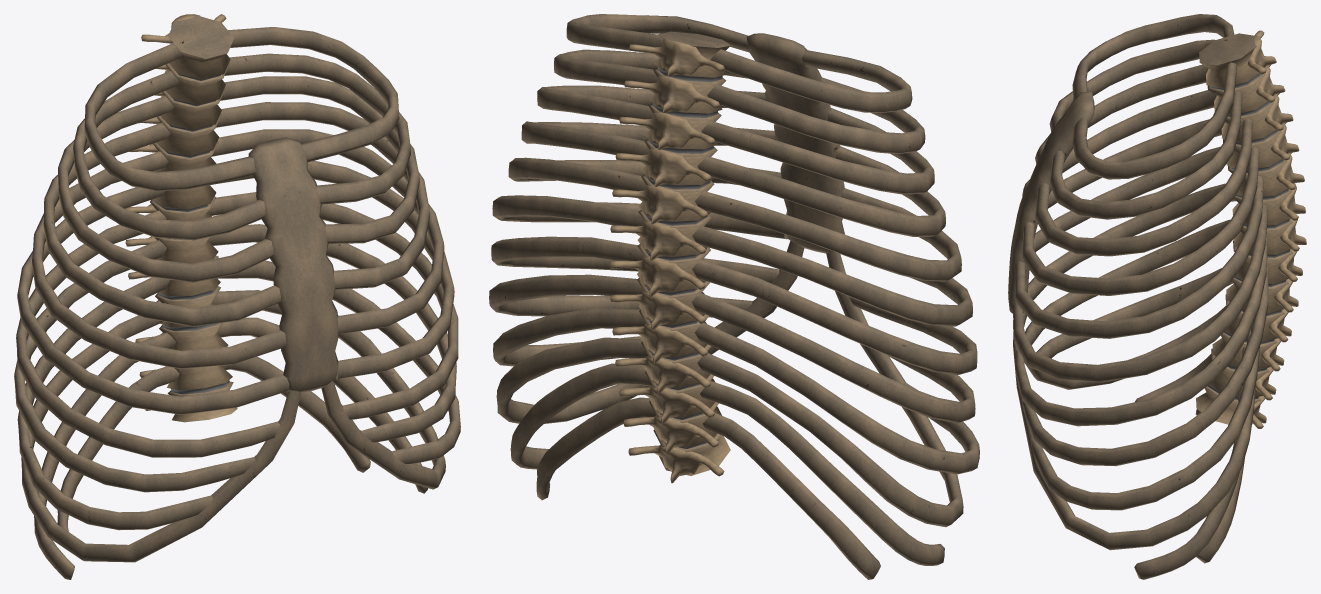
The model's file is low_poly_skeleton_ribs.glb.
3 views of the same model, side by side, from view 1: azimuth 30°, elevation 25°; view 2: azimuth 150°, elevation 25°; view 3: azimuth 270°, elevation 25° (orthographic). The views are drawn at different scales.
Visible parts, largest first — view 1: ribs; view 2: ribs; view 3: ribs.
Boxes of the visible parts, x1,y1,x2,y2 form: ribs: (14,14,460,579); ribs: (489,14,979,579); ribs: (1008,14,1306,579).
Bounding box in the file's own units: 7.97 × 8.81 × 5.22.
Materials: 1 (1 with a texture image).
